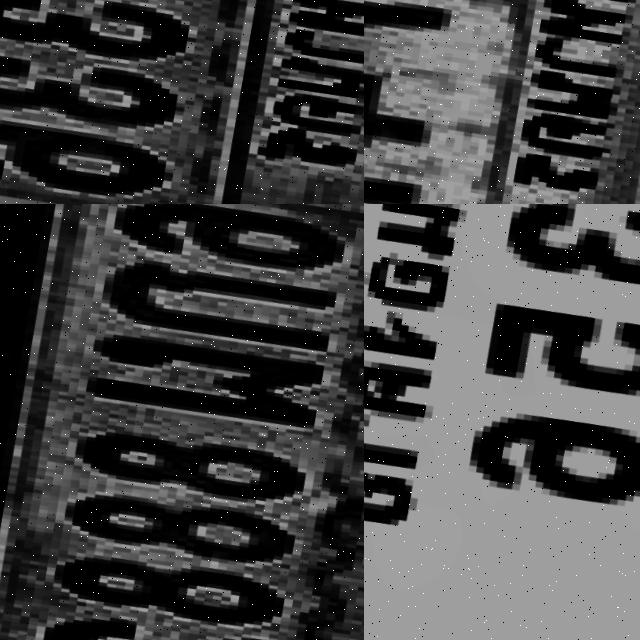license-plate: (0, 204, 364, 640), (364, 204, 640, 640), (0, 0, 364, 204), (364, 0, 640, 204)
